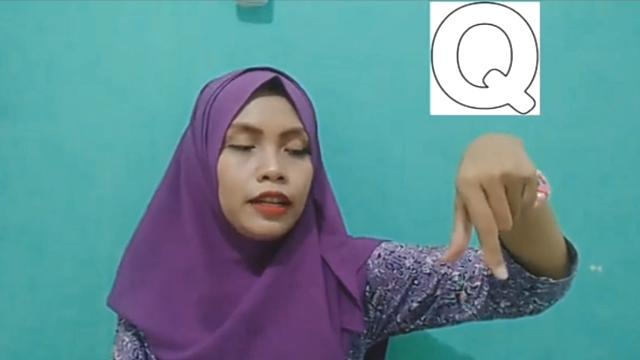Q: (439, 130, 541, 286)
